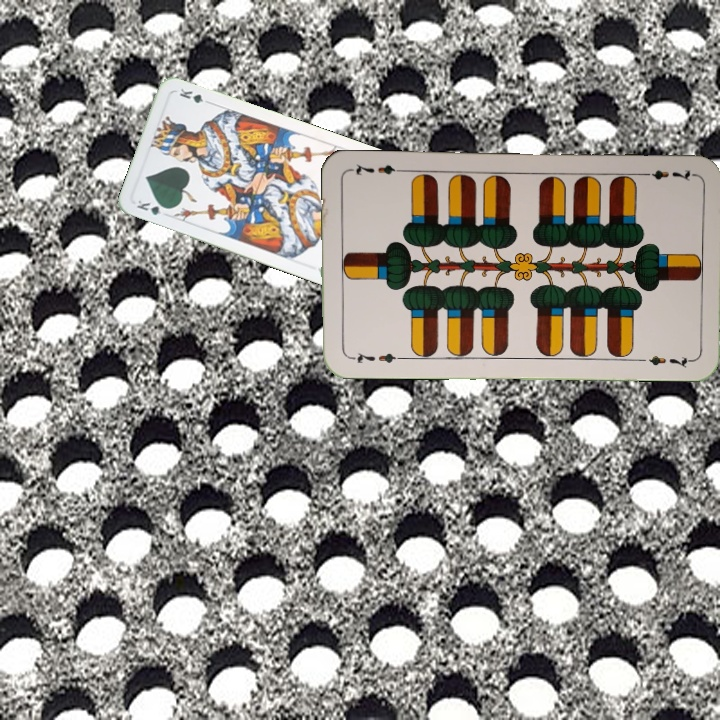E7: (636, 165, 695, 184), (345, 348, 404, 366)
GK: (133, 196, 172, 218)
